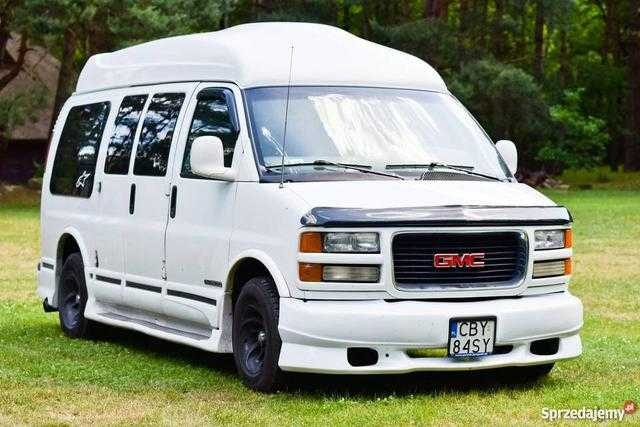van: (37, 22, 582, 392)
